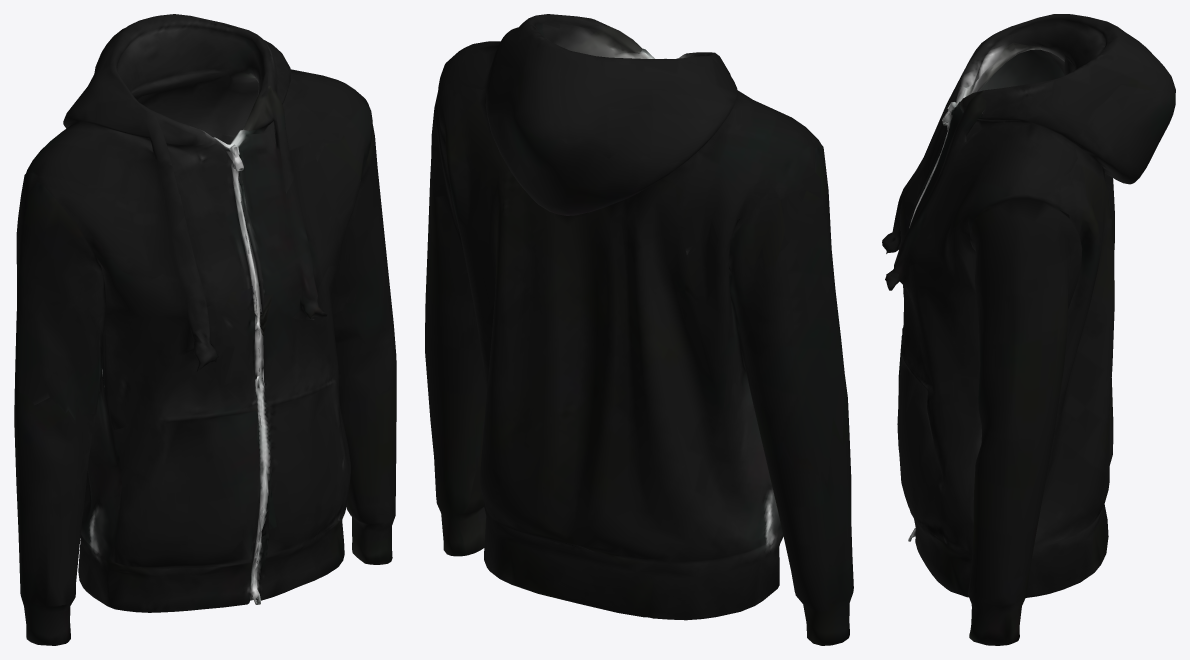
Rendered from card.glb.
The picture shows the model from 3 angles, left to right: view 1: azimuth 30°, elevation 25°; view 2: azimuth 150°, elevation 25°; view 3: azimuth 270°, elevation 25°; orthographic projection. The views are drawn at different scales.
Parts seen in each view (by area): view 1: model; view 2: model; view 3: model.
Boxes of the visible parts, x1,y1,x2,y2 form: model: [14, 14, 396, 645]; model: [425, 14, 853, 645]; model: [882, 14, 1175, 645].
Size of the model in its own units: 1.48 by 2 by 1.01.
1 material, 1 textured.
